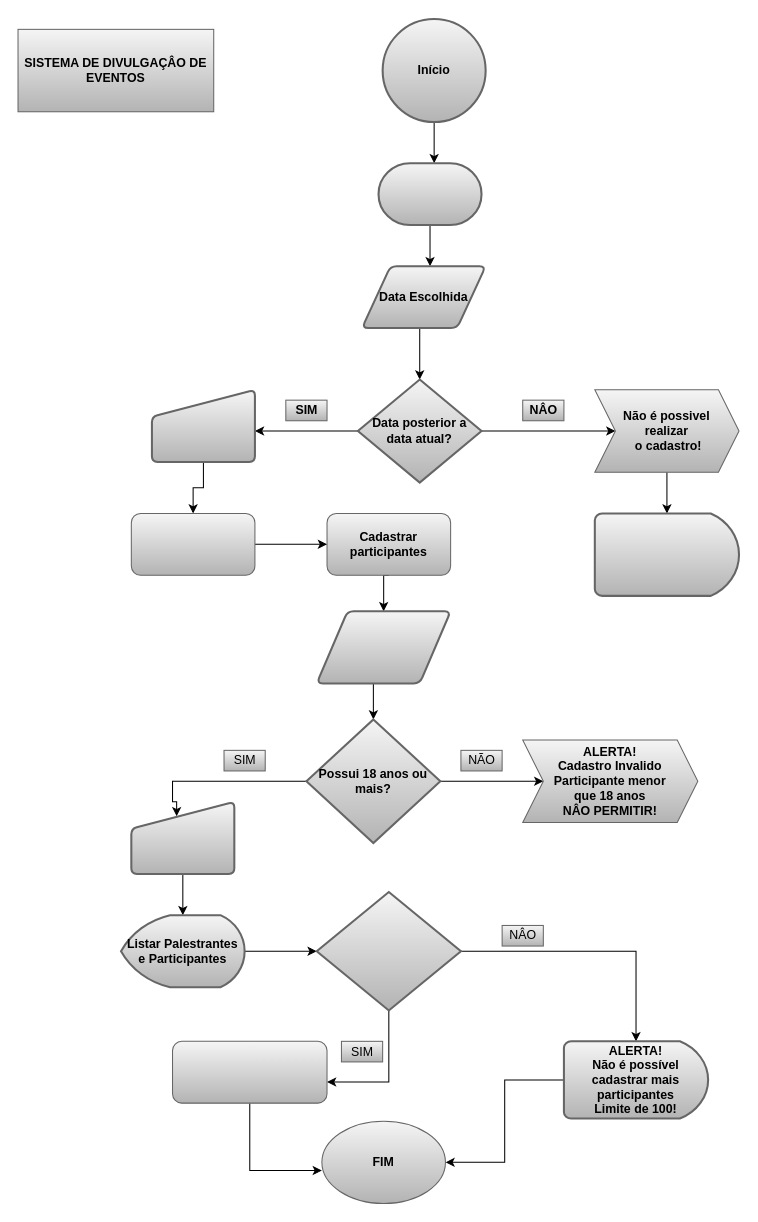
Some shapes in this 758 by 1222 pixel diagram are drawn without their labels. The shapes that lost their labels are listed below. From the top down, each one's box as (x1, y1, x2, y2) in pixels, then its label:
(377, 162, 482, 226): Informe a data do Evento
(150, 388, 255, 462): Permitir o Evento
(130, 512, 255, 575): Cadastrar Palestrantes
(593, 512, 740, 596): ATENÇÂO! não permitir eventos com data atual!
(315, 610, 451, 684): Data de nascimento do participante
(130, 800, 235, 874): Permitir Cadastro
(315, 890, 461, 1011): É menor que 100?
(171, 1040, 327, 1103): Ainda é possivel Cadastar Participantes/Palestrantes
